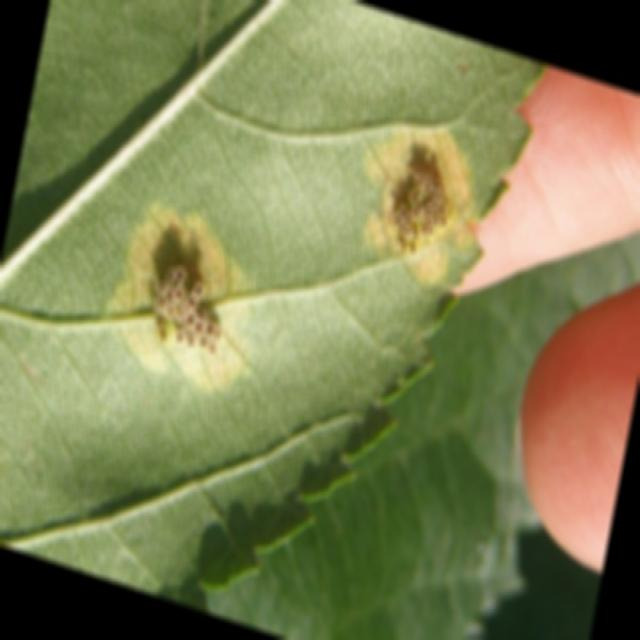Gymnosporangium_Rusts: (120, 116, 481, 409)
